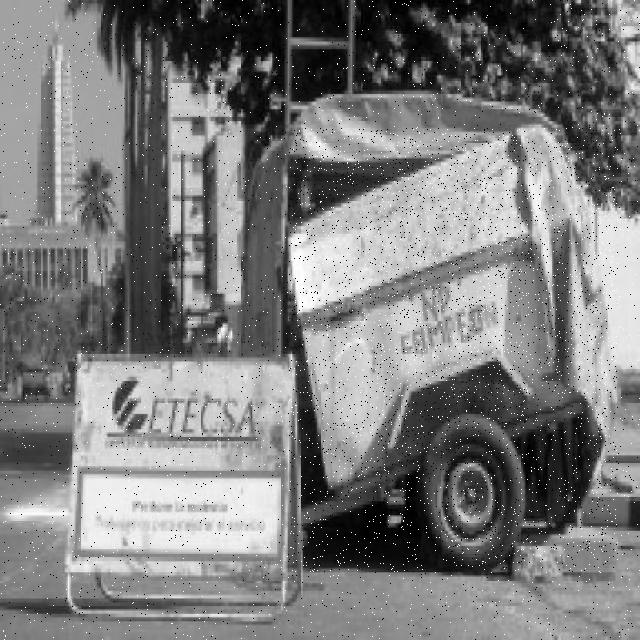Box Truck: (289, 128, 618, 572)
